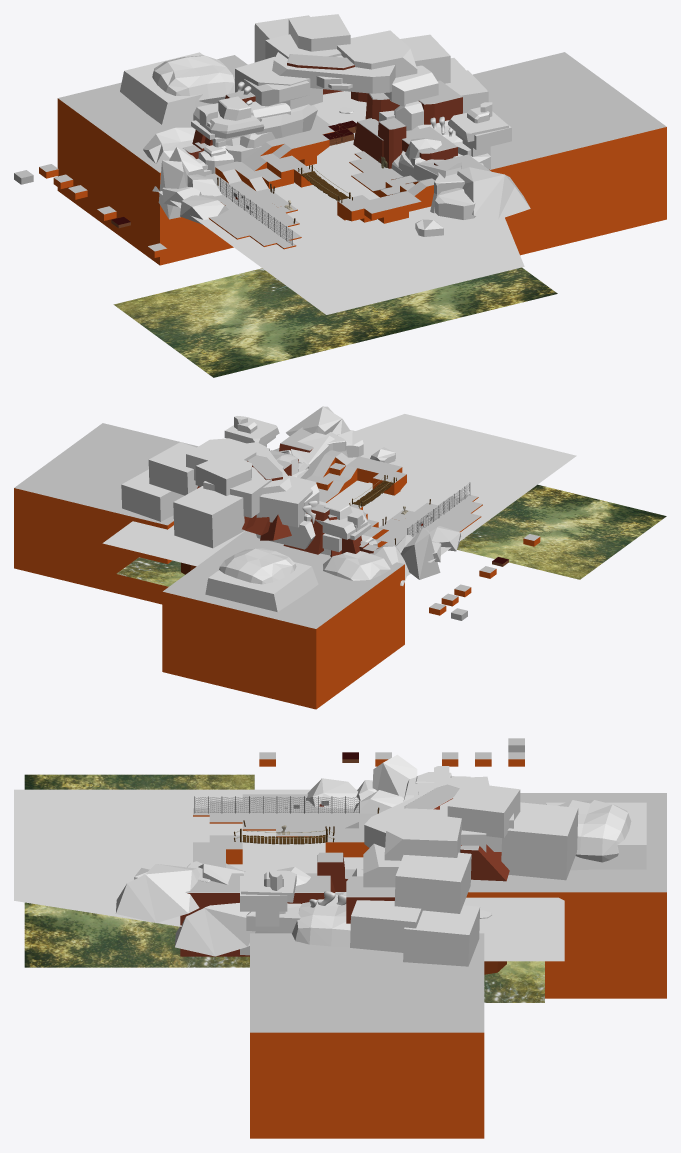
The model's file is Map3.fbx.
The picture shows the model from 3 angles, top to bottom: view 1: azimuth 30°, elevation 25°; view 2: azimuth 150°, elevation 25°; view 3: azimuth 270°, elevation 25°; orthographic projection. The views are drawn at different scales.
Visible parts, largest first — view 1: 立方体.120, 平面.002, 平面.010, 立方体.051, Background.001, 平面.005, 立方体.118, 立方体.116, 立方体.066, 立方体.025, 立方体.024, 立方体.022 (+20 smaller); view 2: 立方体.051, 立方体.120, 平面.002, 平面.010, 立方体.052, Background.001, 立方体.116, 立方体.118, 立方体.058, 立方体.045, 立方体.019, 立方体.022 (+15 smaller); view 3: 立方体.120, 平面.002, 立方体.051, 平面.005, Background.001, 立方体.052, 立方体.045, 立方体.058, 平面.010, 立方体.066, 立方体.025, 立方体.050 (+16 smaller).
Boxes of the visible parts, <box> form: 立方体.120: <box>473,52,666,255</box>; 平面.002: <box>158,91,524,314</box>; 平面.010: <box>113,268,386,377</box>; 立方体.051: <box>57,55,330,265</box>; Background.001: <box>183,54,490,171</box>; 平面.005: <box>350,267,557,335</box>; 立方体.118: <box>152,55,234,103</box>; 立方体.116: <box>120,52,234,124</box>; 立方体.066: <box>457,167,530,219</box>; 立方体.025: <box>337,30,417,77</box>; 立方体.024: <box>272,52,395,93</box>; 立方体.022: <box>288,14,350,51</box>; 立方体.051: <box>162,531,404,709</box>; 立方体.120: <box>14,423,198,604</box>; 平面.002: <box>102,414,576,566</box>; 平面.010: <box>457,484,666,579</box>; 立方体.052: <box>173,486,244,548</box>; Background.001: <box>197,427,378,557</box>; 立方体.116: <box>205,562,318,611</box>; 立方体.118: <box>219,548,296,584</box>; 立方体.058: <box>121,469,184,521</box>; 立方体.045: <box>148,442,197,495</box>; 立方体.019: <box>256,477,312,527</box>; 立方体.022: <box>195,453,251,495</box>; 立方体.120: <box>250,933,484,1138</box>; 平面.002: <box>14,789,564,961</box>; 立方体.051: <box>466,793,666,998</box>; 平面.005: <box>24,902,249,967</box>; Background.001: <box>180,784,509,956</box>; 立方体.052: <box>501,802,578,880</box>; 立方体.045: <box>394,852,471,913</box>; 立方体.058: <box>403,905,479,966</box>; 平面.010: <box>24,774,254,789</box>; 立方体.066: <box>116,864,199,922</box>; 立方体.025: <box>384,808,461,860</box>; 立方体.050: <box>175,903,255,956</box>.
Size of the model in its own units: 4404 by 1354 by 3935.
